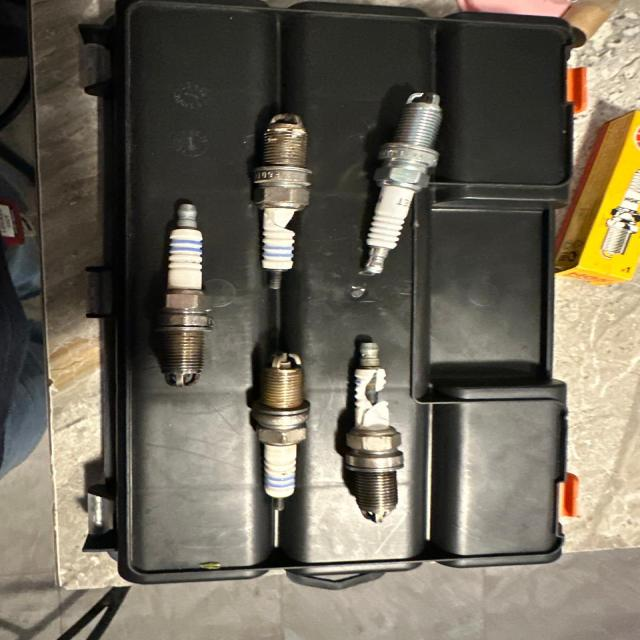damaged_spark-plug: (243, 111, 313, 292), (343, 339, 405, 518)
spark-plug: (353, 84, 471, 277), (247, 347, 316, 509), (164, 204, 208, 388)
